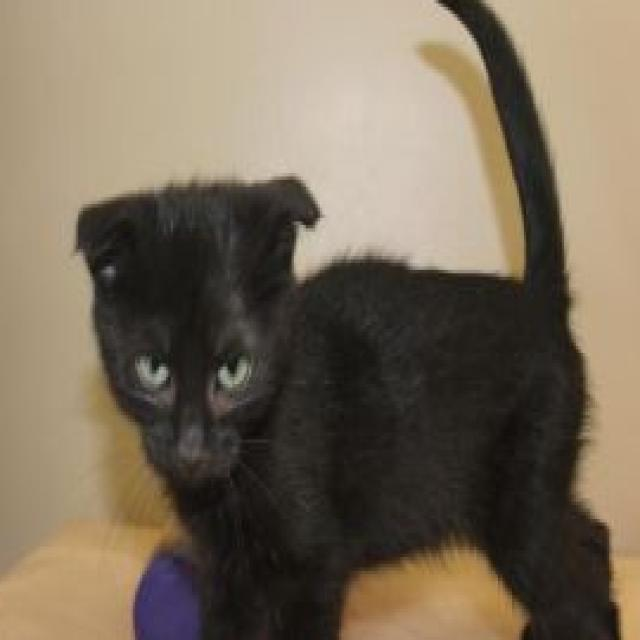Scottish Fold: (71, 0, 628, 640)
